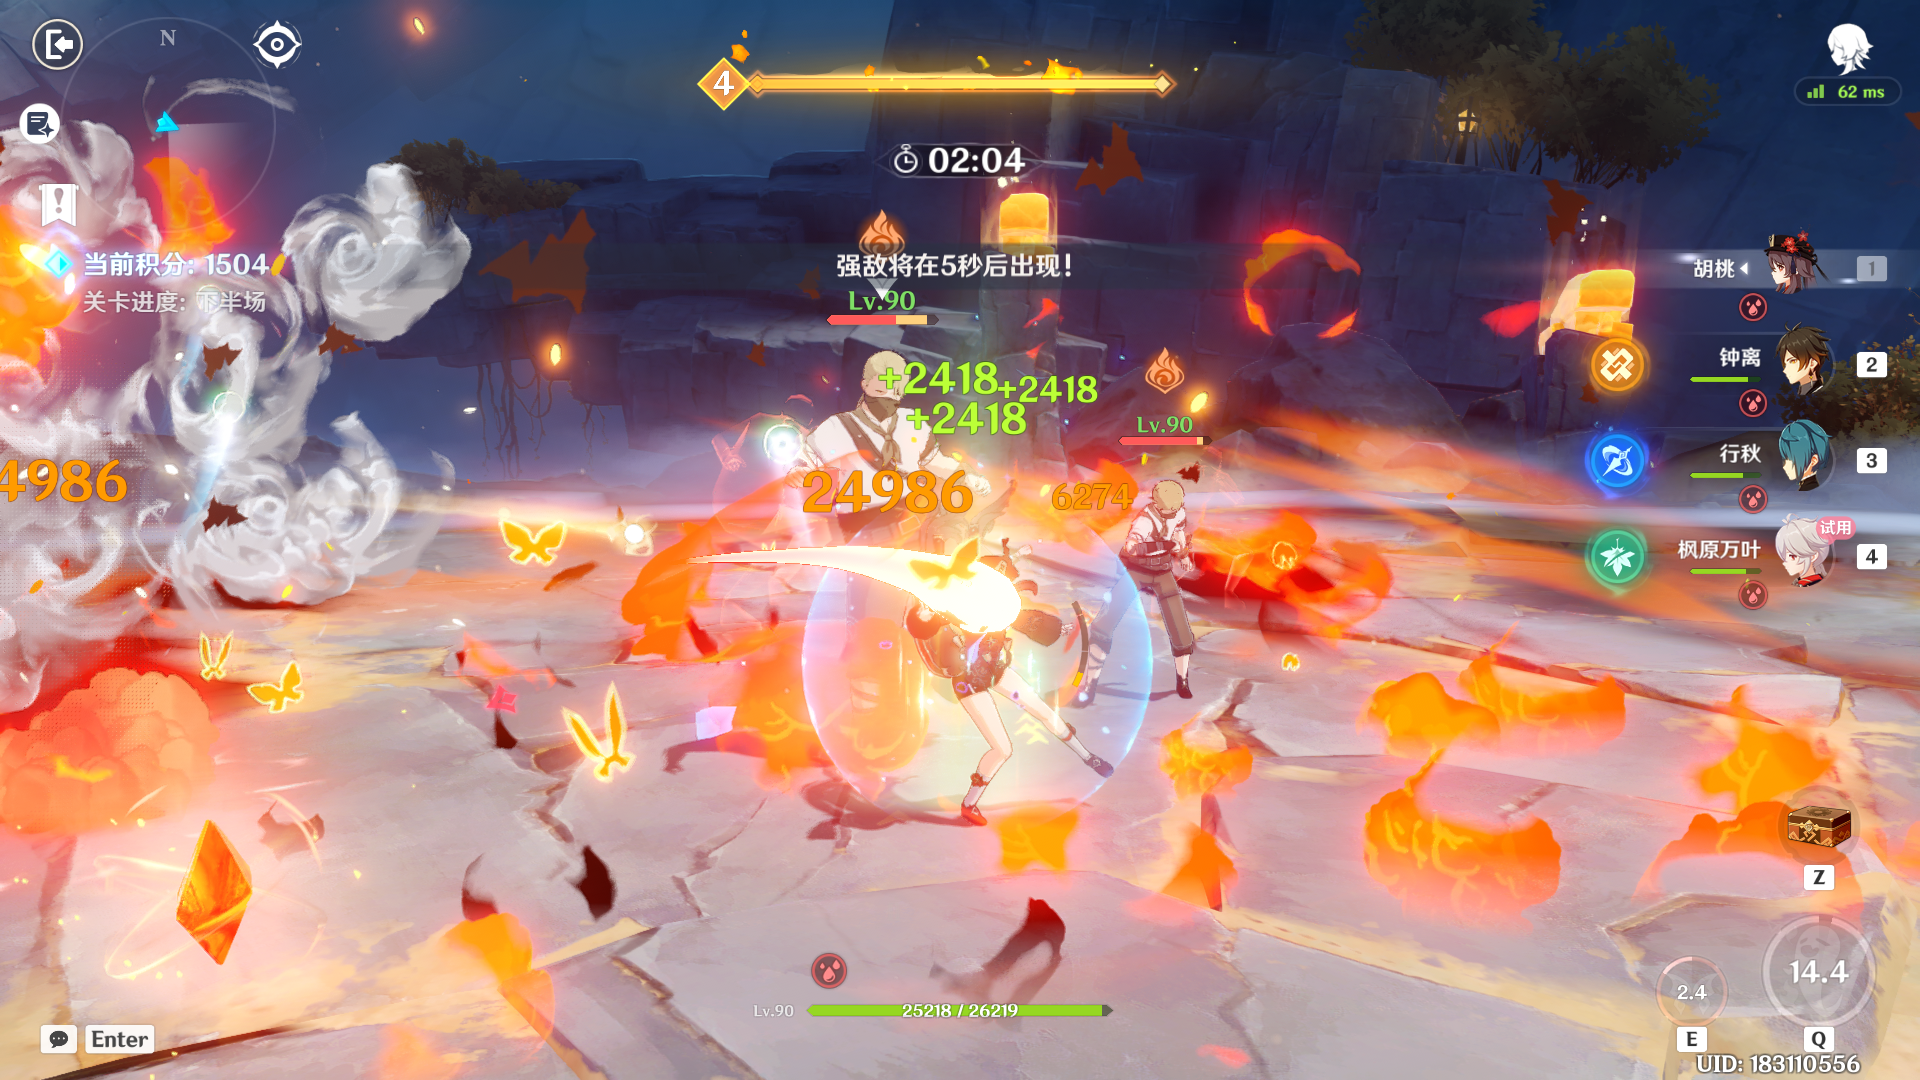character: (894, 537, 1126, 835)
robber: (737, 302, 992, 657), (1054, 462, 1236, 728)
